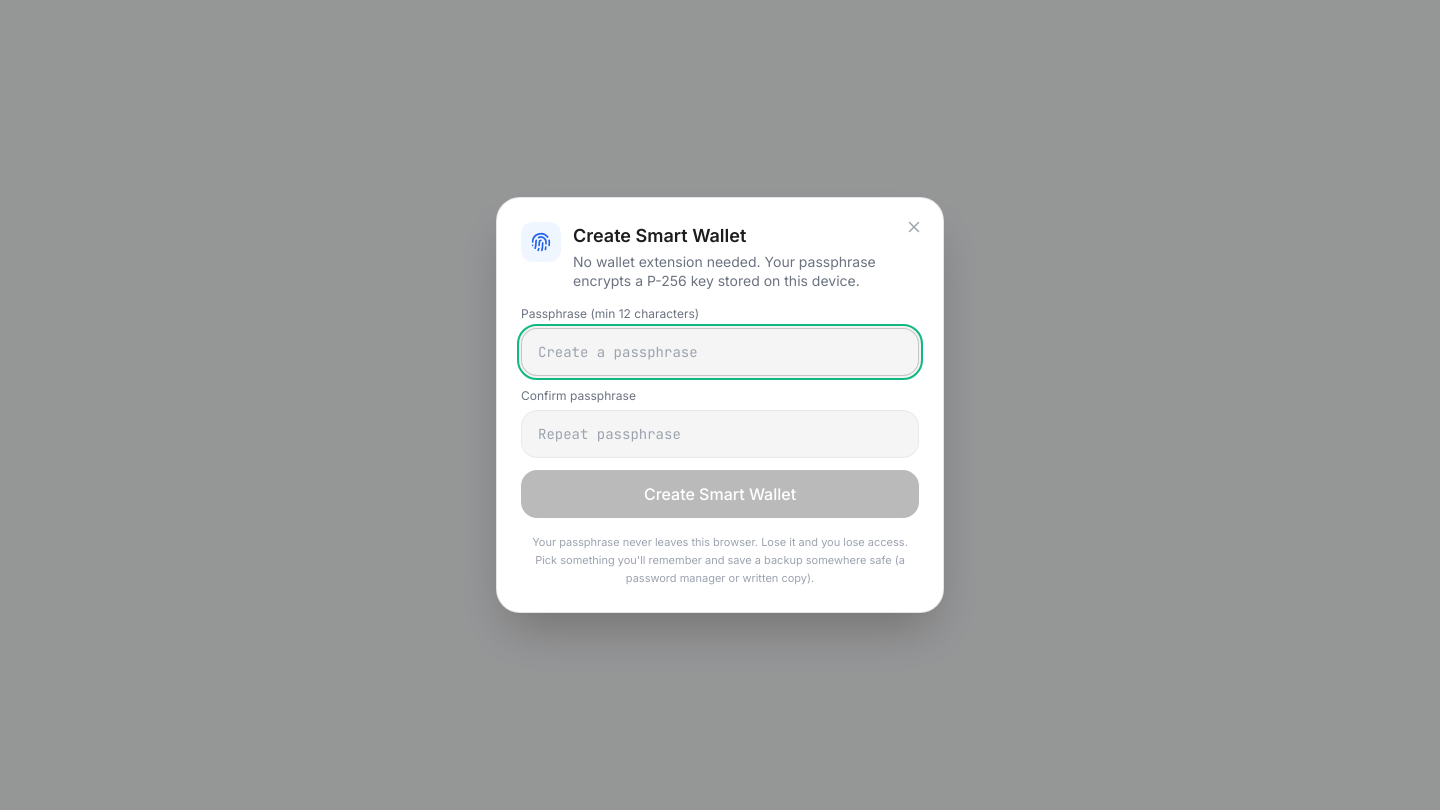
Test case: PasskeyCreationModal — submit success (§15.x) › success state: form unmounted + success card mounted with truncated address
Type "longenough12" into the password field with test id "passkey-passphrase-new" at (720, 352), box [521,328,919,376]
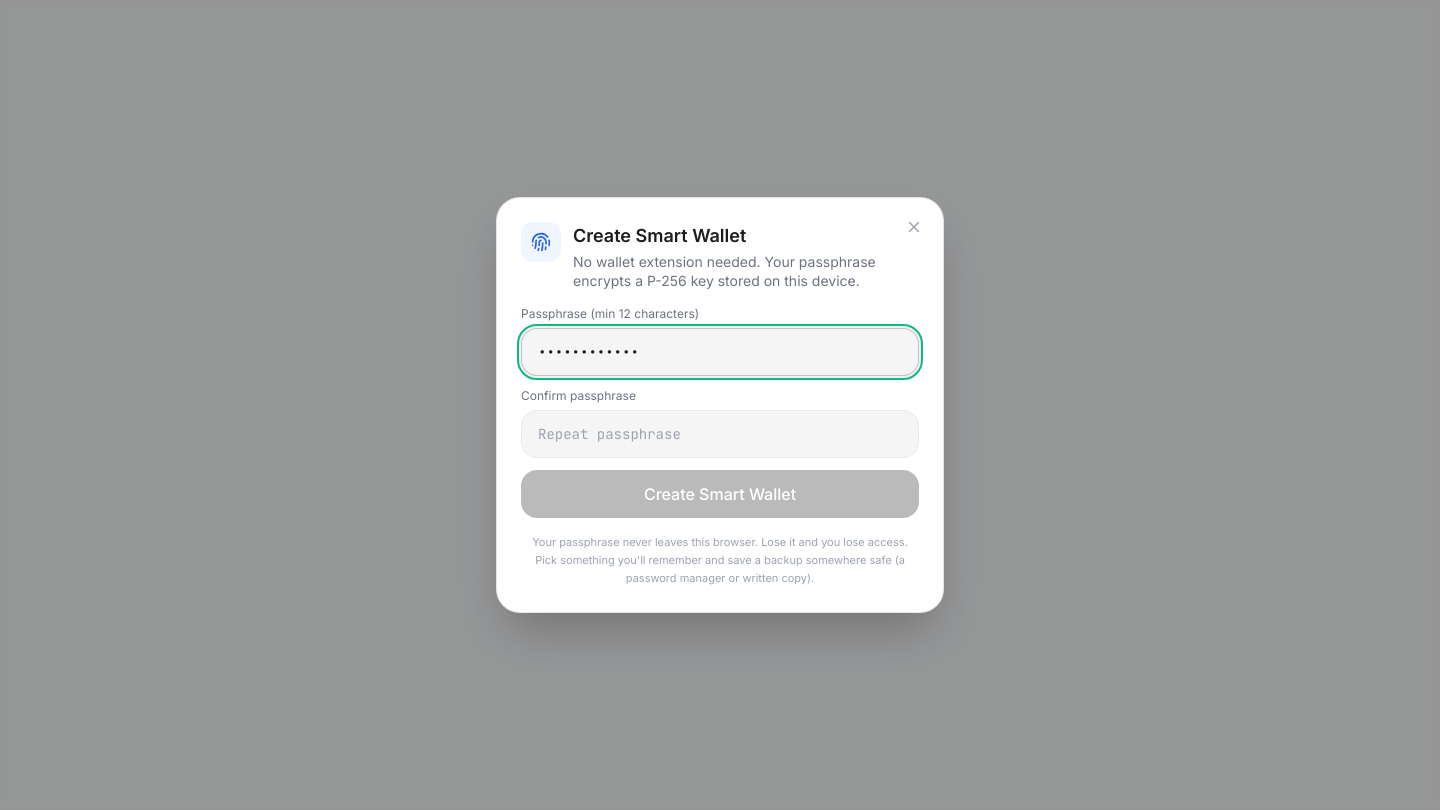
Type "longenough12" into the password field with test id "passkey-passphrase-confirm" at (720, 434), box [521,410,919,458]
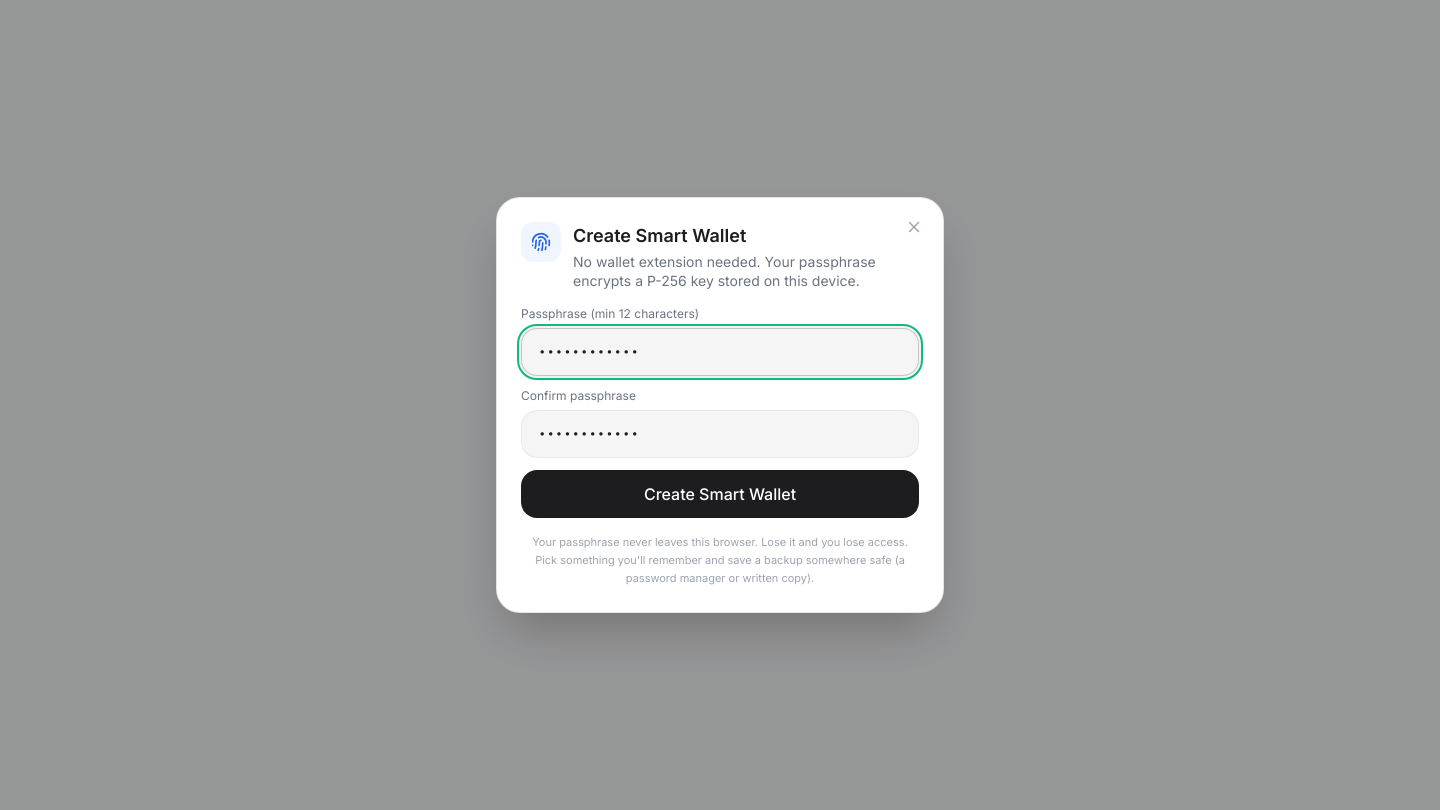
Click the button with test id "passkey-create-submit" at (720, 494), box [521,470,919,518]
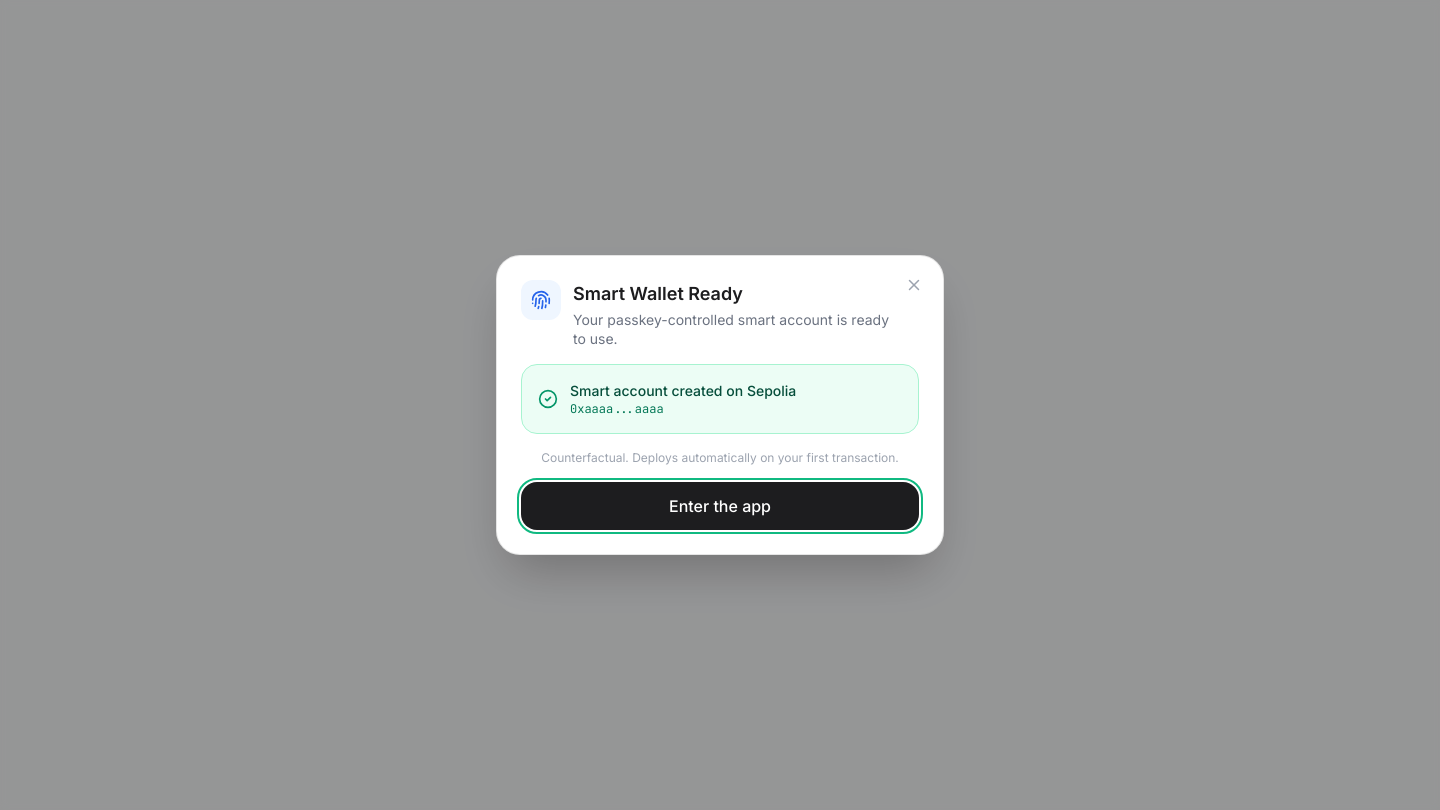
Result: the heading "Smart Wallet Ready" is shown at [573,283,743,304]
Result: the button with test id "passkey-create-submit" is gone
Result: the text with test id "smart-account-address" shows "0xaaaa" at [570,401,664,417]
